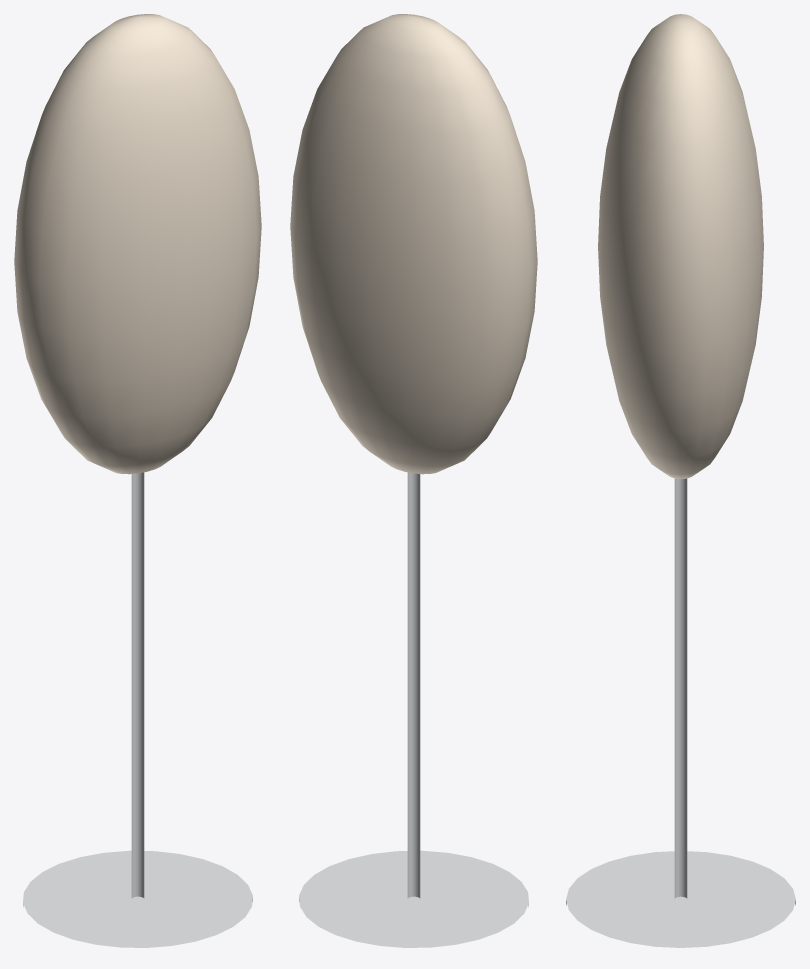
3 renders of one model, left to right at view 1: azimuth 30°, elevation 25°; view 2: azimuth 150°, elevation 25°; view 3: azimuth 270°, elevation 25°, orthographic.
Bounding box in the file's own units: 0.42 × 1.53 × 0.36.
